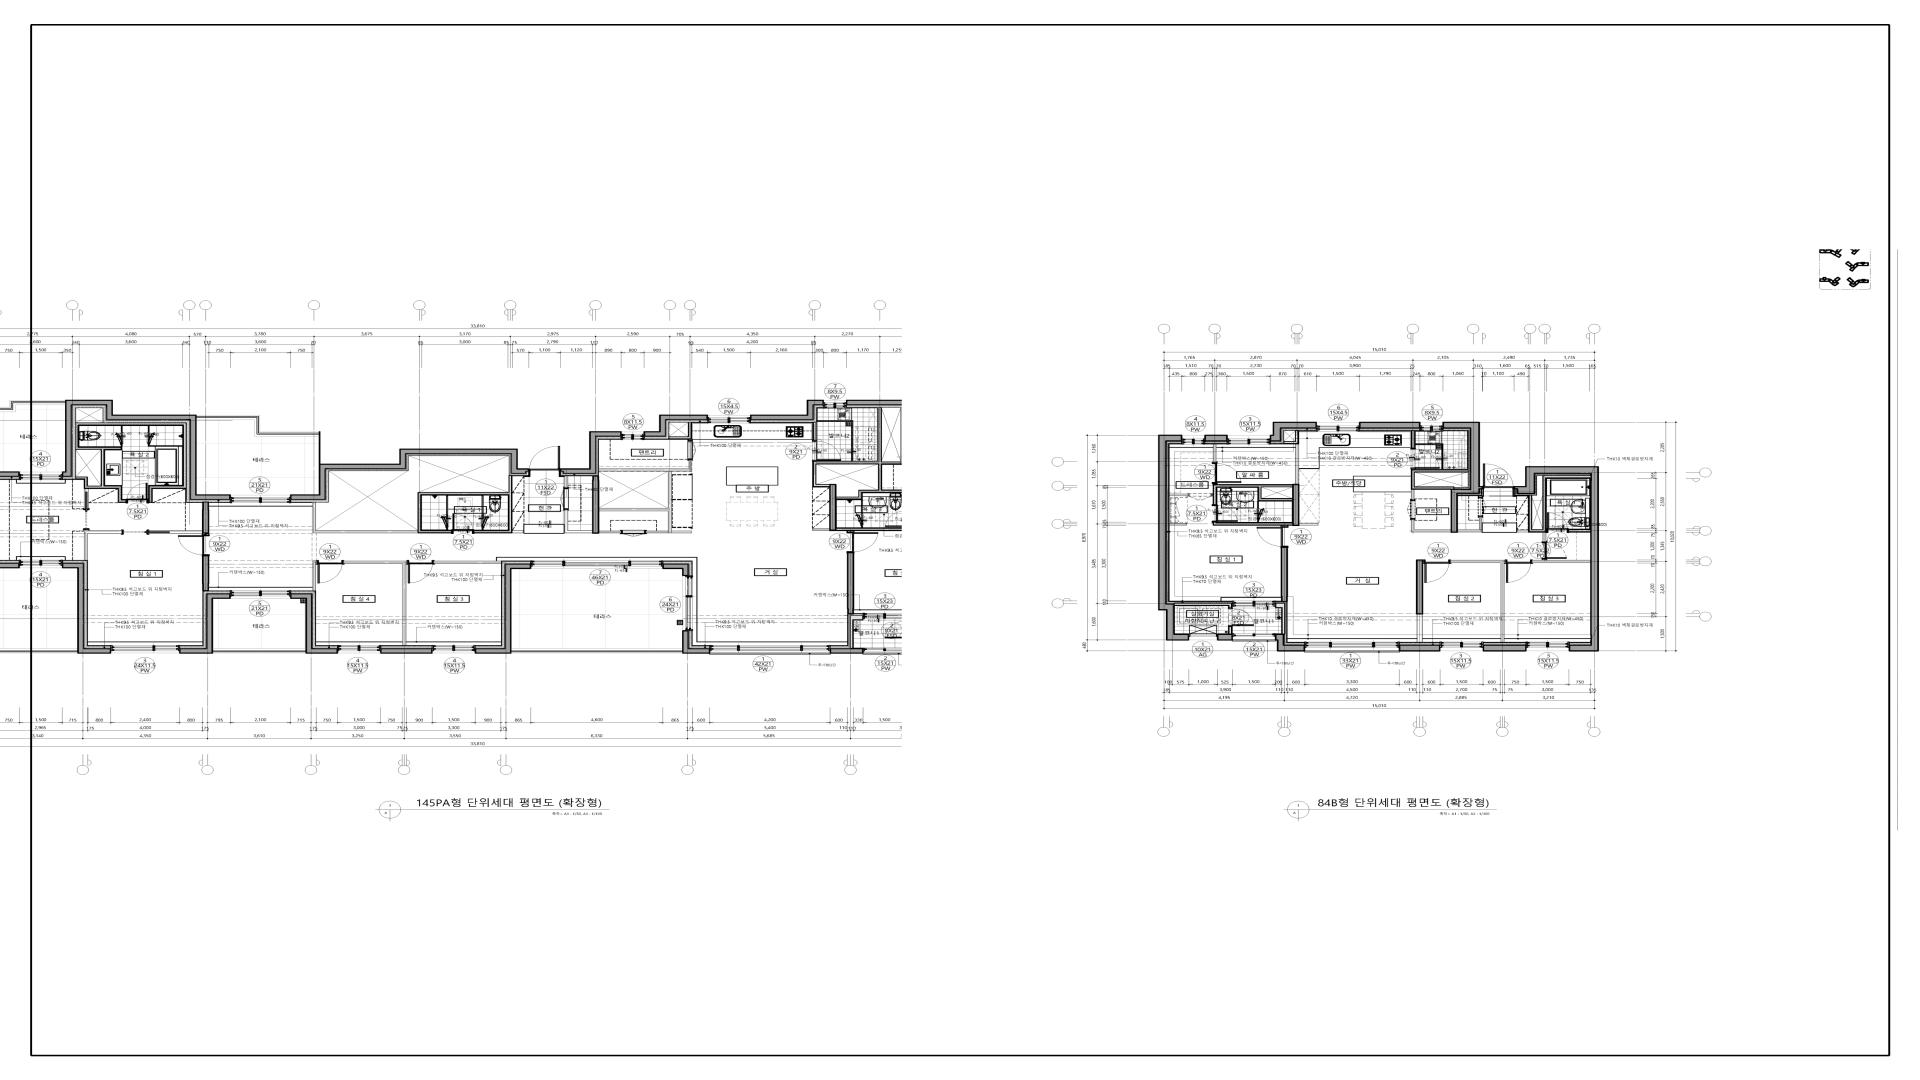door: (1484, 463, 1514, 489), (530, 446, 560, 472), (847, 531, 880, 554), (178, 534, 210, 556), (1257, 526, 1288, 547), (1423, 559, 1451, 583), (1505, 559, 1532, 583), (316, 560, 344, 584), (406, 560, 434, 584), (1411, 448, 1440, 469), (1212, 463, 1241, 484), (812, 440, 841, 462), (916, 436, 942, 460), (451, 513, 475, 534), (1228, 608, 1254, 626), (885, 621, 911, 640), (1547, 512, 1569, 533), (1542, 542, 1567, 560), (1212, 505, 1238, 522), (885, 510, 911, 527), (127, 483, 148, 504), (1188, 493, 1213, 501), (911, 498, 936, 506), (687, 440, 696, 460), (621, 530, 646, 537), (1407, 500, 1415, 520), (1478, 497, 1486, 517), (123, 530, 149, 535), (83, 509, 90, 530)
wall: (62, 400, 231, 500), (1514, 467, 1600, 651), (313, 475, 524, 534), (290, 448, 530, 500), (812, 407, 911, 510), (75, 422, 187, 502), (599, 460, 692, 533), (1158, 435, 1189, 641), (196, 415, 320, 464), (942, 456, 969, 654), (343, 560, 406, 645), (475, 563, 531, 654), (1518, 475, 1590, 542), (1443, 422, 1484, 533), (62, 563, 111, 654), (1451, 560, 1505, 642), (847, 400, 916, 462), (179, 593, 231, 654), (290, 593, 339, 654), (911, 407, 968, 456), (560, 431, 622, 475), (1411, 469, 1469, 500), (1213, 484, 1292, 505), (750, 400, 824, 421), (644, 414, 708, 436), (84, 530, 123, 560), (1270, 422, 1317, 442), (1283, 430, 1299, 484), (682, 630, 711, 654), (0, 401, 65, 411), (512, 649, 682, 653), (564, 510, 592, 533), (1411, 520, 1451, 533), (1275, 634, 1305, 651), (847, 554, 855, 615), (592, 476, 600, 534), (669, 422, 692, 440), (1280, 547, 1288, 603), (851, 616, 864, 647), (1360, 422, 1420, 429), (1458, 517, 1482, 533), (829, 484, 837, 531), (662, 563, 690, 576), (214, 649, 306, 653), (1416, 559, 1423, 615), (380, 647, 433, 654), (1275, 603, 1286, 634), (1213, 522, 1292, 526), (0, 649, 78, 653), (1175, 603, 1233, 608), (1482, 645, 1527, 651), (837, 527, 910, 531), (906, 616, 960, 621), (1292, 484, 1299, 526), (202, 556, 210, 591), (1399, 645, 1440, 651), (434, 560, 501, 564), (202, 501, 210, 534), (829, 647, 864, 654), (149, 530, 202, 534), (1416, 615, 1423, 642), (1204, 435, 1228, 442), (1532, 560, 1590, 563), (313, 560, 316, 591), (1217, 634, 1233, 641), (1411, 430, 1416, 448), (812, 422, 818, 440), (1569, 529, 1590, 533), (906, 649, 922, 654), (84, 489, 88, 509), (1213, 444, 1217, 463), (906, 638, 911, 649), (564, 476, 568, 488), (940, 529, 957, 531), (1228, 626, 1233, 633), (600, 531, 621, 533), (936, 500, 957, 501), (1170, 495, 1188, 496), (1170, 524, 1187, 525), (1478, 496, 1484, 497)
window: (711, 645, 829, 654), (531, 560, 662, 568), (683, 576, 694, 630), (231, 495, 290, 504), (111, 645, 179, 653), (1305, 642, 1399, 647), (1305, 647, 1399, 653), (231, 591, 290, 599), (1440, 642, 1484, 651), (1228, 435, 1270, 444), (1317, 422, 1360, 431), (1527, 642, 1569, 651), (20, 559, 62, 568), (1233, 633, 1275, 641), (708, 415, 750, 423), (20, 472, 62, 480), (338, 645, 380, 653), (433, 645, 475, 653), (1233, 600, 1275, 607), (864, 647, 906, 654), (864, 613, 906, 620), (1420, 422, 1443, 431), (1183, 435, 1204, 444), (1189, 633, 1217, 640), (824, 401, 847, 409), (622, 433, 644, 440), (922, 647, 949, 653)
